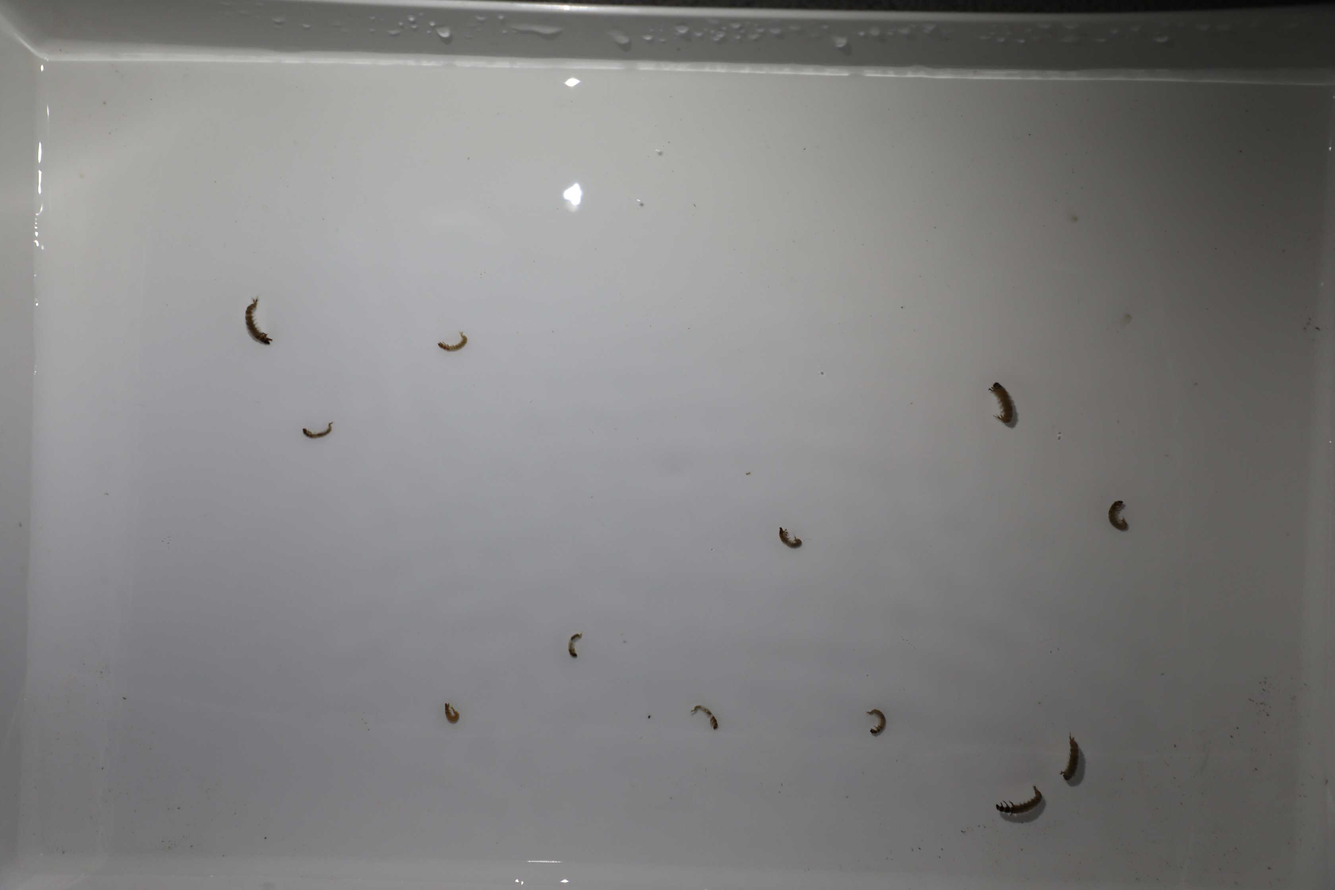Cadisfly: (996, 781, 1044, 824), (986, 378, 1022, 431), (241, 296, 274, 345), (1060, 730, 1083, 789), (431, 327, 472, 360), (299, 416, 337, 446), (1103, 497, 1133, 535), (689, 700, 723, 731), (438, 697, 464, 731), (862, 707, 890, 736), (778, 527, 806, 555), (565, 631, 585, 662)
